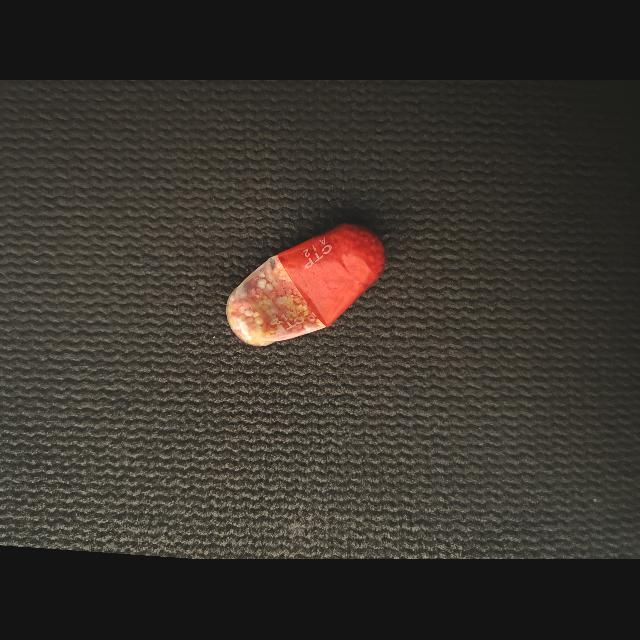Defective Capsule: (226, 223, 385, 347)
